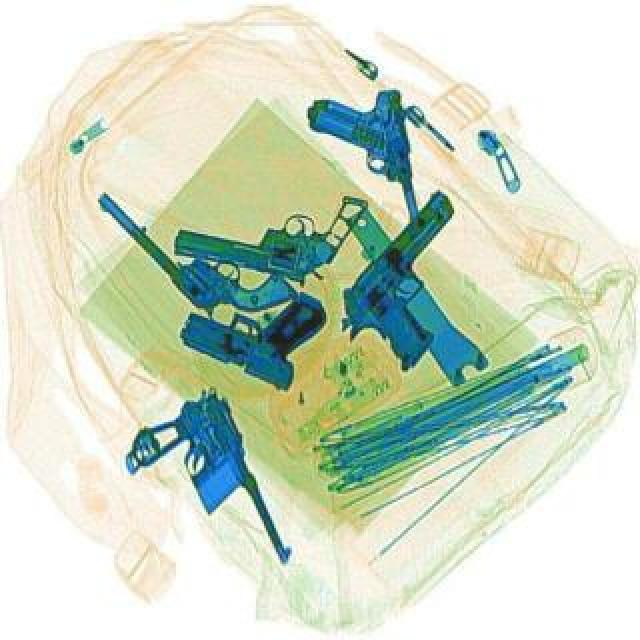gun: (90, 150, 300, 352), (106, 386, 298, 602), (318, 192, 522, 384), (168, 172, 368, 292), (168, 260, 332, 396), (302, 92, 418, 240)
